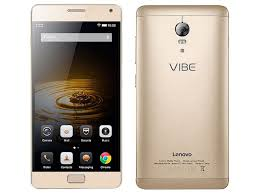lenovo: (27, 1, 126, 194), (132, 1, 231, 194)
